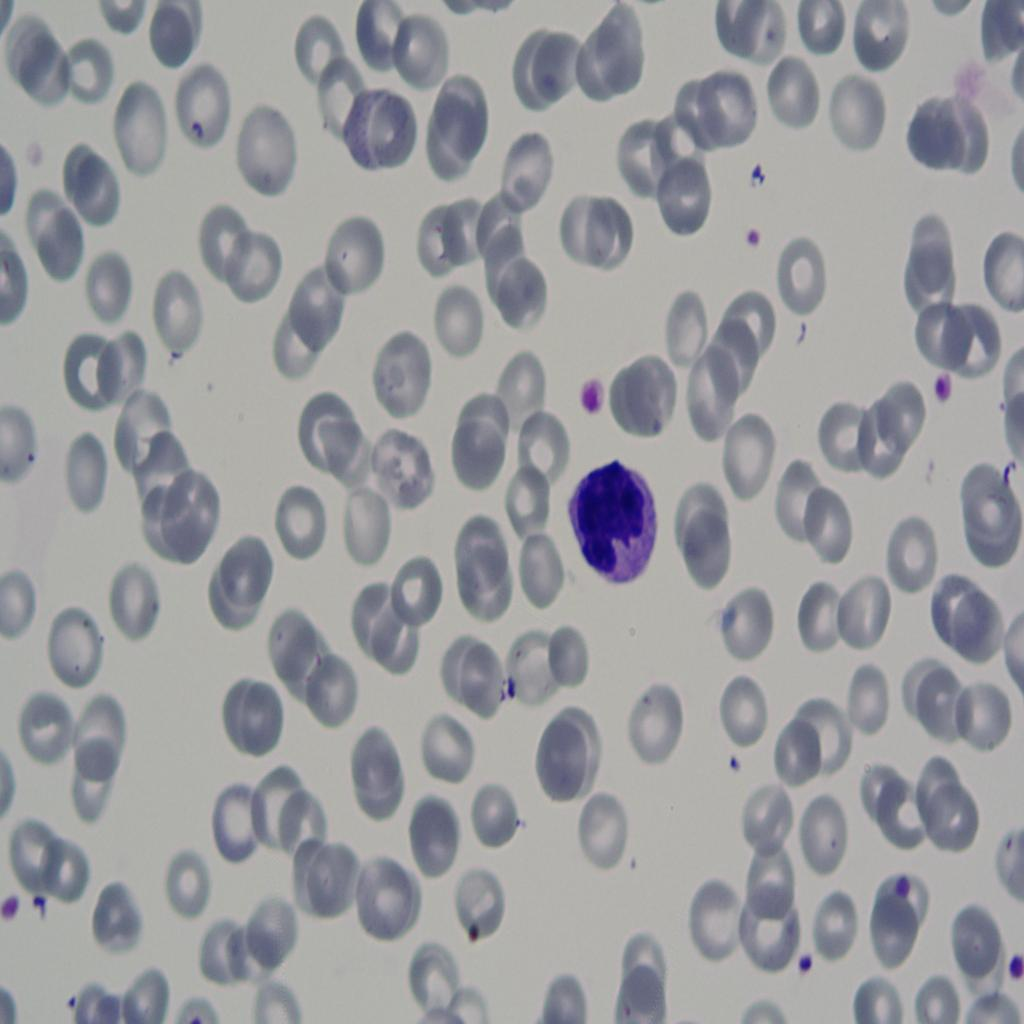Myeoblast: (570, 456, 664, 589)
Platelet: (932, 368, 967, 424), (998, 932, 1024, 1000), (792, 943, 823, 989), (576, 369, 597, 425), (737, 216, 767, 253), (888, 877, 913, 913), (724, 745, 744, 774)
